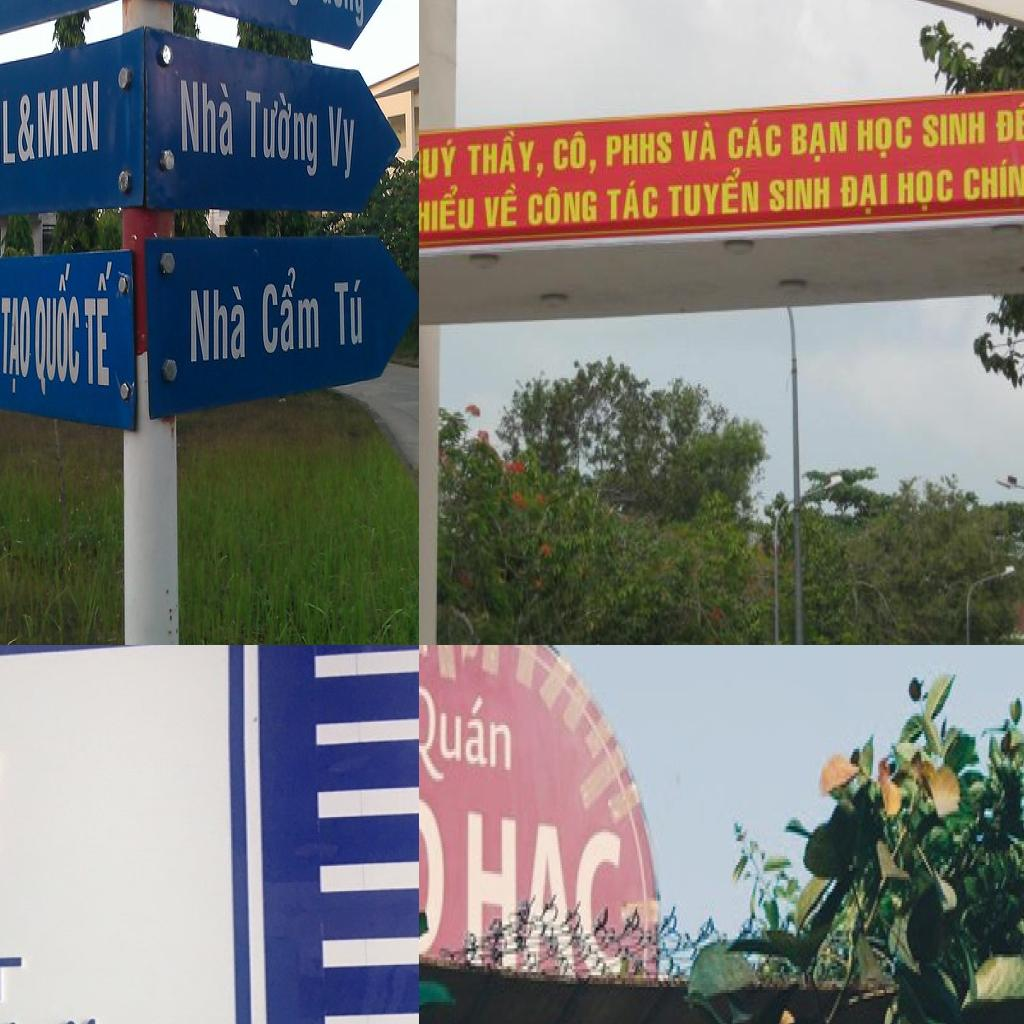text: (419, 662, 529, 796), (0, 78, 101, 170), (245, 85, 319, 178), (33, 262, 81, 405), (260, 265, 321, 357), (664, 165, 762, 219), (189, 285, 247, 365), (180, 78, 235, 158), (466, 129, 547, 183), (83, 261, 114, 389), (0, 295, 33, 398), (962, 154, 1024, 205), (525, 187, 601, 228), (856, 116, 916, 166), (419, 185, 475, 238), (605, 126, 675, 168), (896, 166, 956, 214), (726, 115, 784, 163), (790, 117, 850, 163), (552, 124, 601, 180), (767, 172, 833, 212), (606, 176, 660, 224), (920, 110, 988, 148), (838, 170, 890, 219), (328, 105, 357, 181), (482, 182, 521, 234), (419, 135, 460, 183), (304, 0, 365, 28), (680, 122, 717, 165), (994, 94, 1024, 147)
